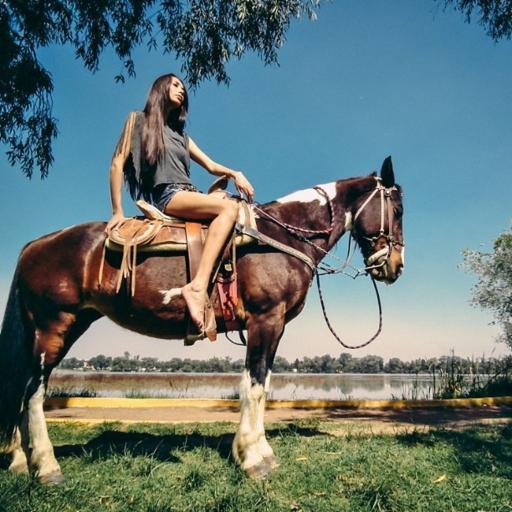horse: (0, 156, 403, 490)
